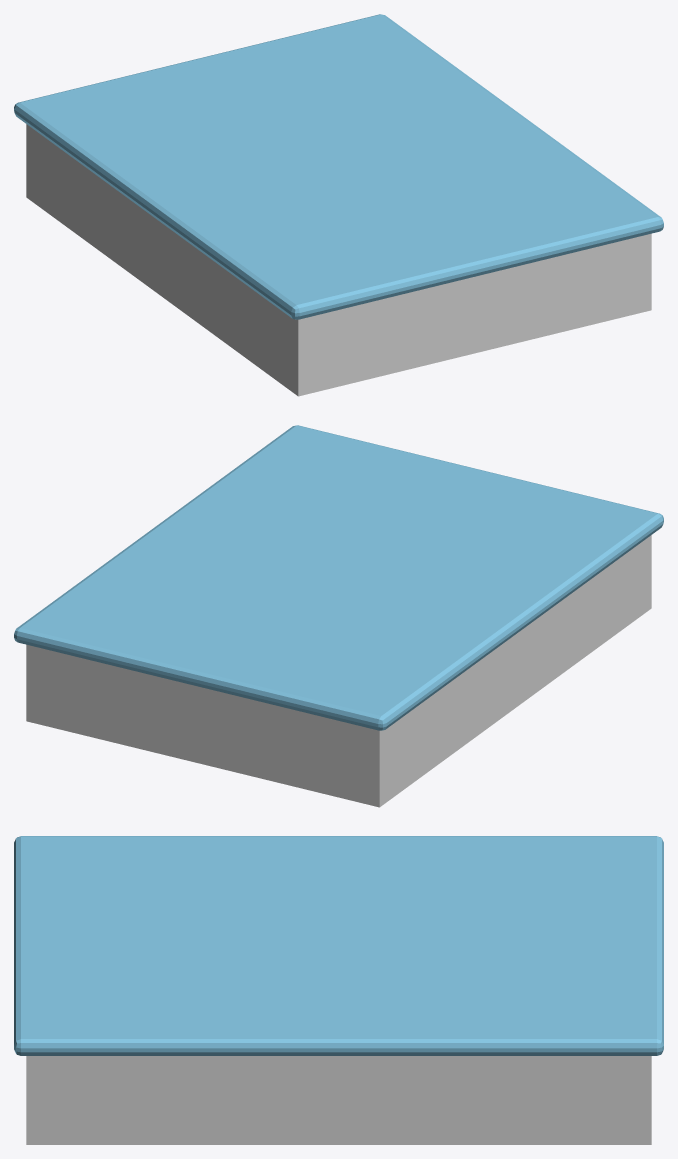
File: Track Obstacles.fbx
The picture shows the model from 3 angles, top to bottom: view 1: azimuth 30°, elevation 25°; view 2: azimuth 150°, elevation 25°; view 3: azimuth 270°, elevation 25°; orthographic projection. The views are drawn at different scales.
Parts seen in each view (by area): view 1: Track Same As Matt; view 2: Track Same As Matt; view 3: Track Same As Matt.
Part boxes in pixels (x1,y1,x2,y2): Track Same As Matt: (14,14,663,396); Track Same As Matt: (14,425,663,807); Track Same As Matt: (14,836,663,1144).
Bounding box in the file's own units: 3.16 × 0.7624 × 4.16.
